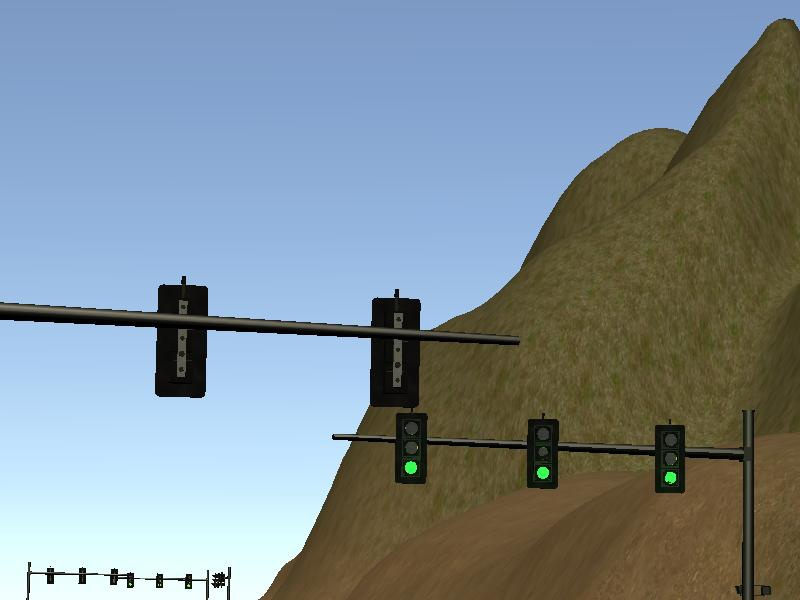Green: (396, 415, 426, 484), (529, 420, 558, 489), (656, 426, 684, 493), (184, 574, 191, 589), (156, 573, 162, 589), (128, 574, 134, 587)
